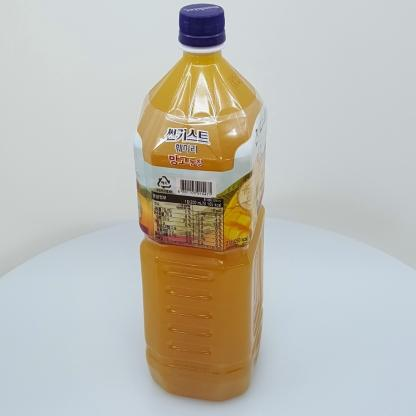---------2L: (133, 3, 268, 401)
